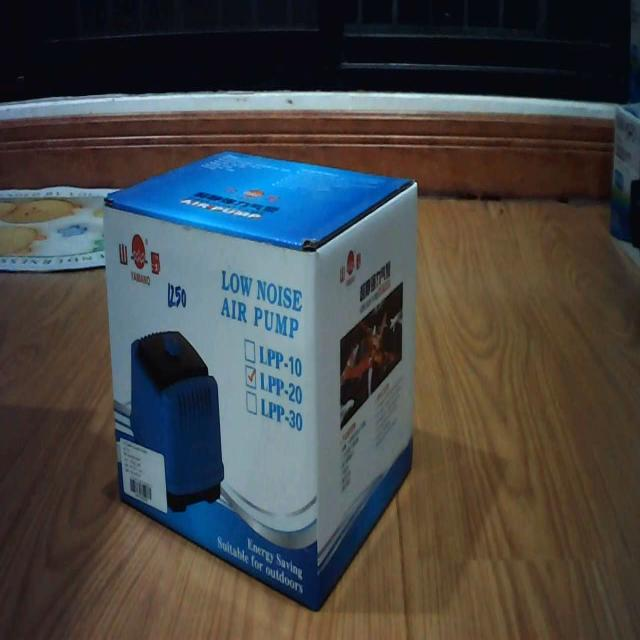YAMANO_LPP_20: (100, 136, 423, 618)
